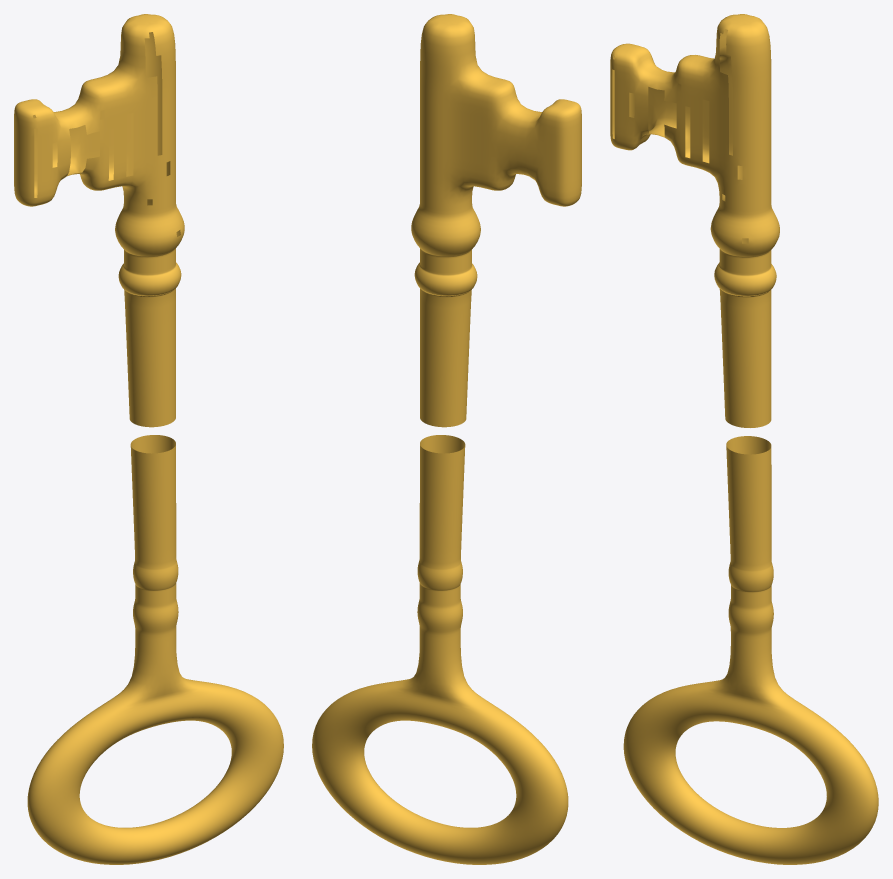
The model's file is key.fbx.
3 renders of one model, left to right at view 1: azimuth 30°, elevation 25°; view 2: azimuth 150°, elevation 25°; view 3: azimuth 330°, elevation 25°, orthographic.
Visible parts, largest first — view 1: key.002, key.001; view 2: key.002, key.001; view 3: key.002, key.001.
Boxes of the visible parts, x1,y1,x2,y2 form: key.002: (27,435,283,864); key.001: (14,14,184,427); key.002: (312,435,568,864); key.001: (411,14,581,427); key.002: (623,436,878,864); key.001: (610,14,779,427).
Size of the model in its own units: 2.37 by 7.19 by 0.5169.
